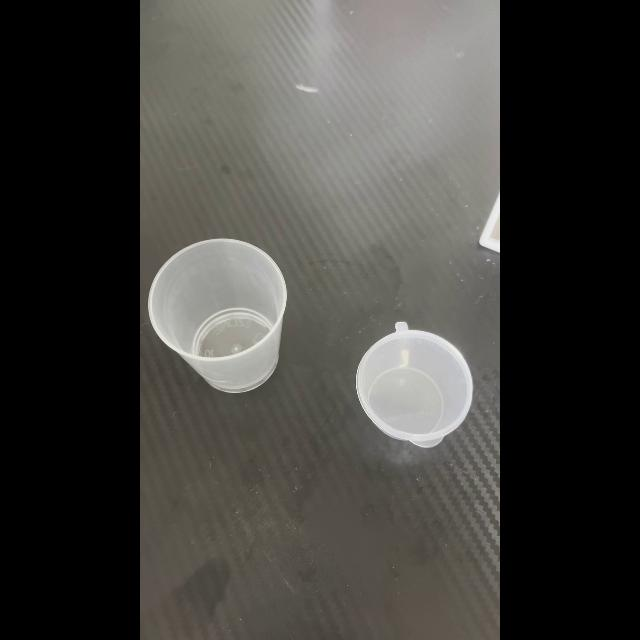clean: (152, 234, 292, 390), (361, 324, 464, 444)
